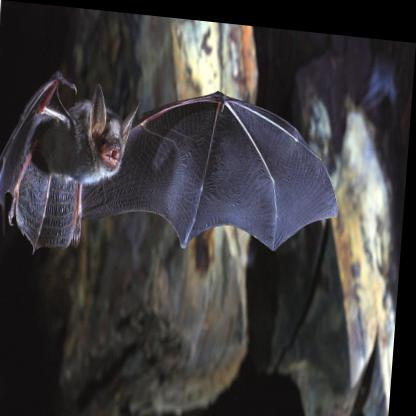Bat: (0, 68, 347, 272)
